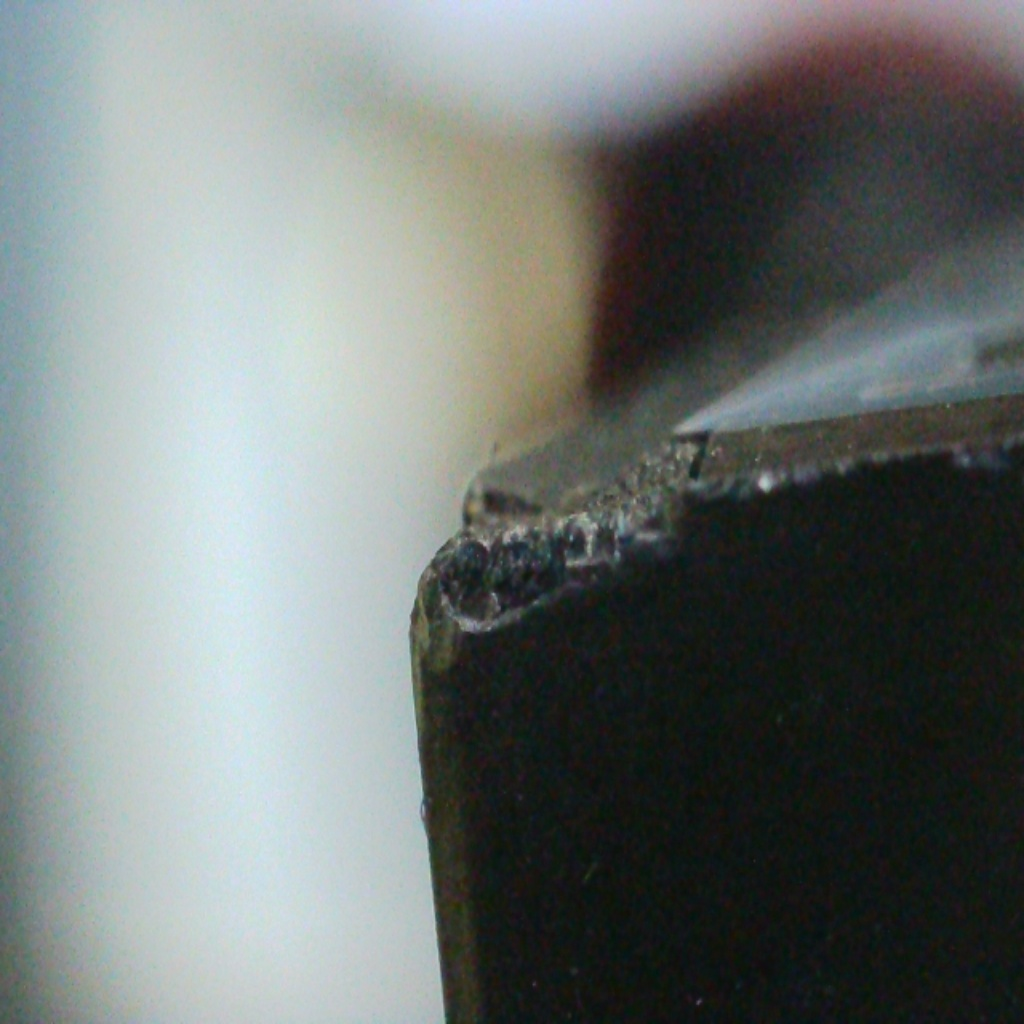flank_wear: (437, 510, 663, 622)
